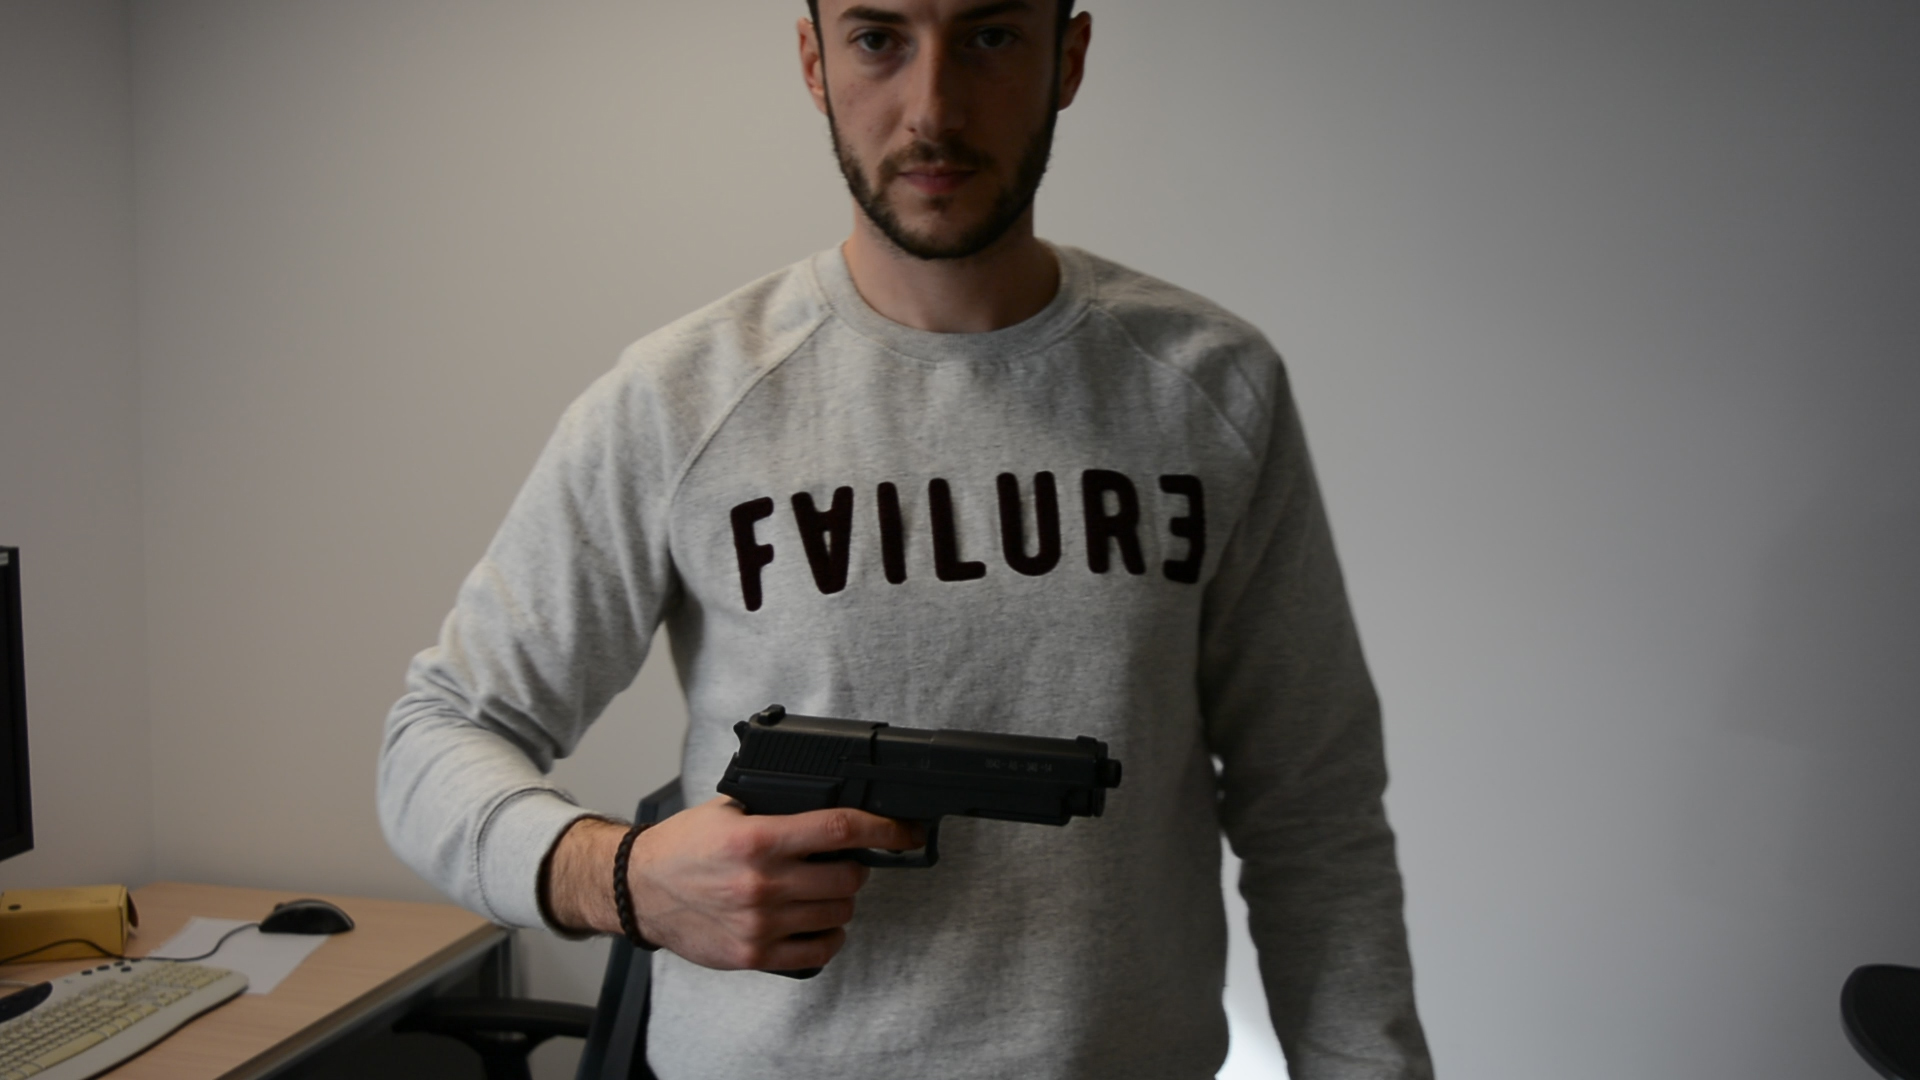pistol: (713, 702, 1125, 981)
